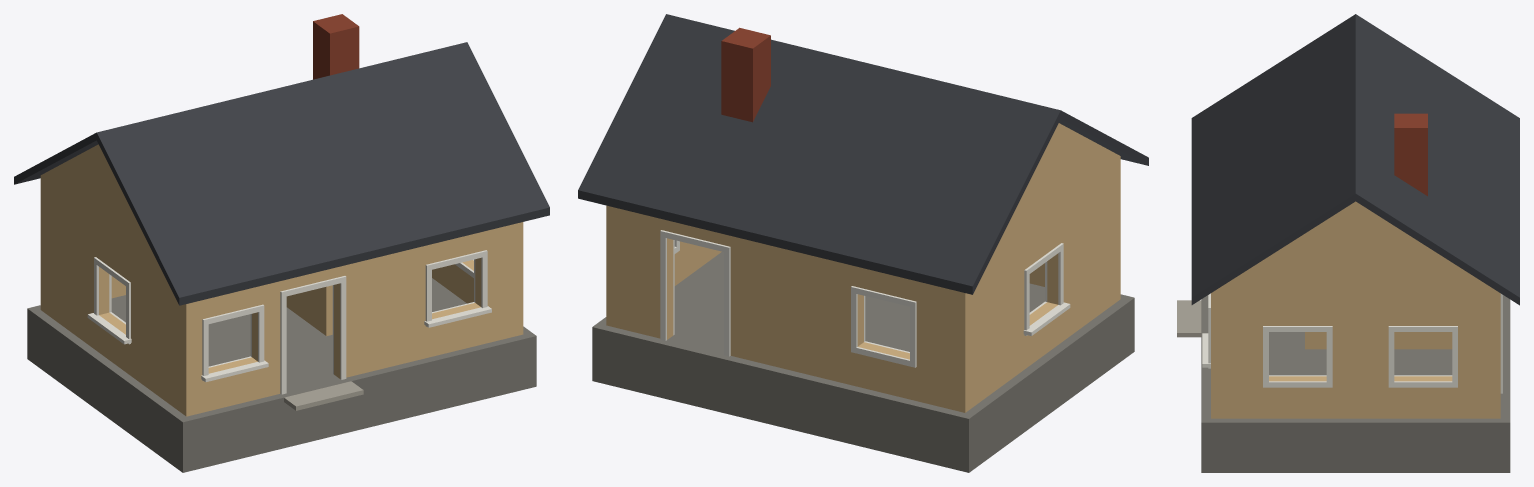
The model's file is house_warm.glb.
3 views of the same model, side by side, from view 1: azimuth 30°, elevation 25°; view 2: azimuth 150°, elevation 25°; view 3: azimuth 270°, elevation 25° (orthographic). The views are drawn at different scales.
Visible parts, largest first — view 1: house_warm; view 2: house_warm; view 3: house_warm.
Boxes of the visible parts, left/top/right/bottom form: house_warm: left=14, top=14, right=549, bottom=472; house_warm: left=578, top=14, right=1148, bottom=472; house_warm: left=1177, top=14, right=1519, bottom=472.
Size of the model in its own units: 8.8 by 7 by 7.1.
